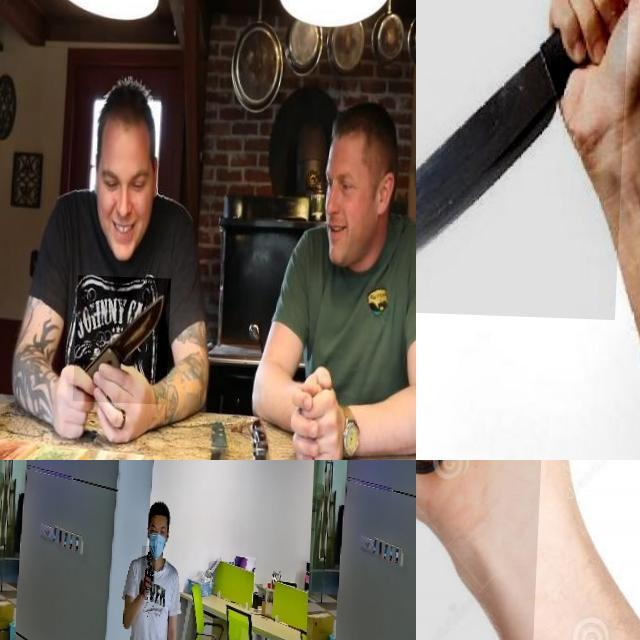-: (416, 0, 632, 317), (416, 460, 606, 640), (76, 274, 174, 403)
gun-knife-thesis - v11 Yolov5 augmented: (142, 544, 158, 594)
